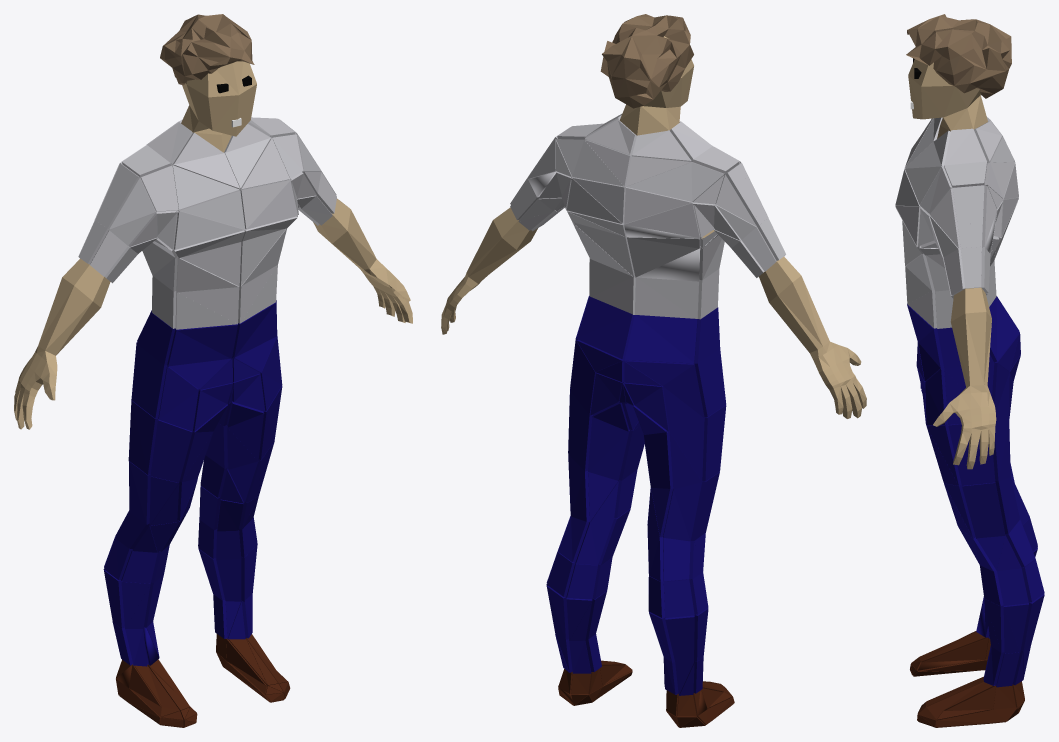
Rendered from hombre.fbx.
The picture shows the model from 3 angles, left to right: view 1: azimuth 30°, elevation 25°; view 2: azimuth 150°, elevation 25°; view 3: azimuth 270°, elevation 25°; orthographic projection.
Visible parts, largest first — view 1: Cube.001_Material_0.002, Cube.001_Material_0.001, Cube.001_Material_0, Cube.001_Material_0.003, Esfera; view 2: Cube.001_Material_0.002, Cube.001_Material_0.001, Cube.001_Material_0, Esfera, Cube.001_Material_0.003; view 3: Cube.001_Material_0.002, Cube.001_Material_0.001, Cube.001_Material_0, Cube.001_Material_0.003, Esfera.
Part boxes in pixels (<box>): Cube.001_Material_0.002: <box>103,300,282,666</box>; Cube.001_Material_0.001: <box>78,117,336,329</box>; Cube.001_Material_0: <box>14,61,412,429</box>; Cube.001_Material_0.003: <box>116,634,290,727</box>; Esfera: <box>160,14,254,85</box>; Cube.001_Material_0.002: <box>546,296,726,695</box>; Cube.001_Material_0.001: <box>510,114,785,319</box>; Cube.001_Material_0: <box>441,36,866,418</box>; Esfera: <box>600,14,693,108</box>; Cube.001_Material_0.003: <box>558,660,734,727</box>; Cube.001_Material_0.002: <box>907,296,1044,687</box>; Cube.001_Material_0.001: <box>895,116,1018,328</box>; Cube.001_Material_0: <box>908,59,996,469</box>; Cube.001_Material_0.003: <box>910,630,1024,727</box>; Esfera: <box>906,14,1011,98</box>.
Bounding box in the file's own units: 269 × 432 × 86.56.
